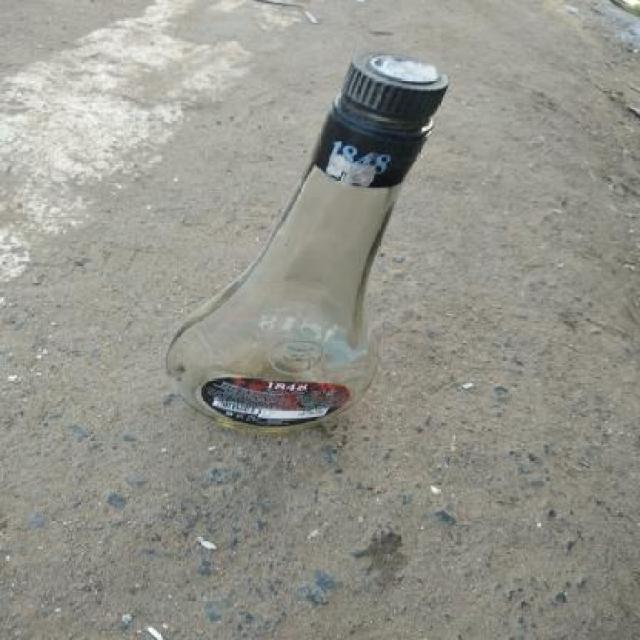garbage: (197, 3, 458, 546)
